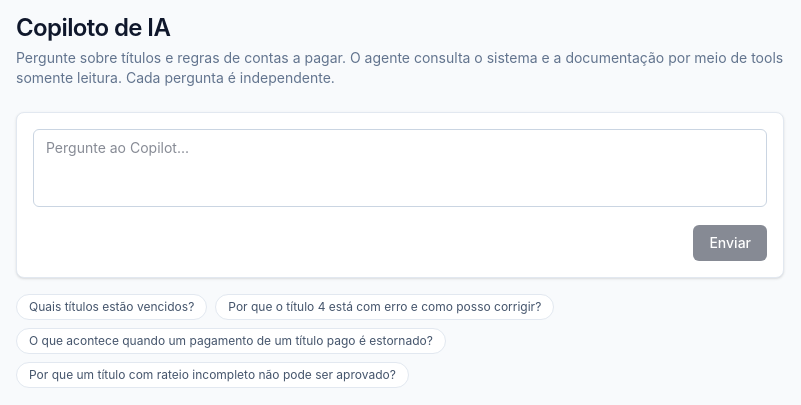
Test: CopilotPage › sugestões acompanham o idioma selecionado
Click the button "Quais títulos estão vencidos?". click: (112, 307)
box: [16,294,207,320]
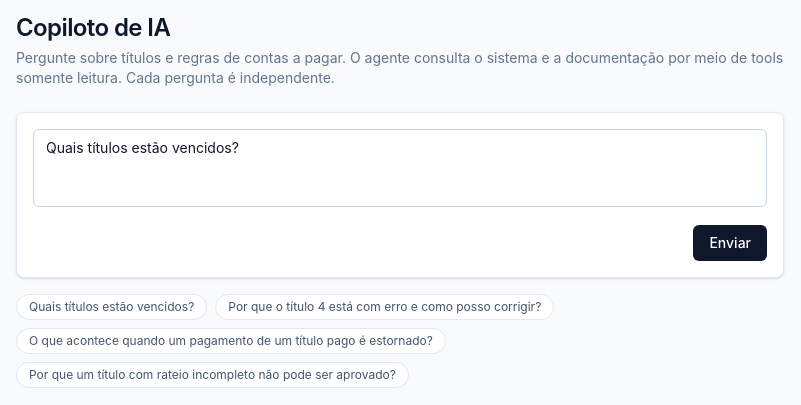
Result: the text box named "Pergunta" holds "Quais títulos estão vencidos?" at [33,129,767,207]
